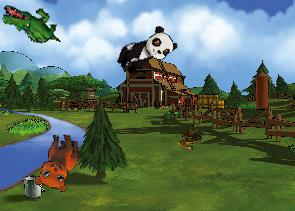bear: (33, 131, 79, 192)
crocodile: (0, 4, 62, 44)
panda: (112, 22, 179, 81)
